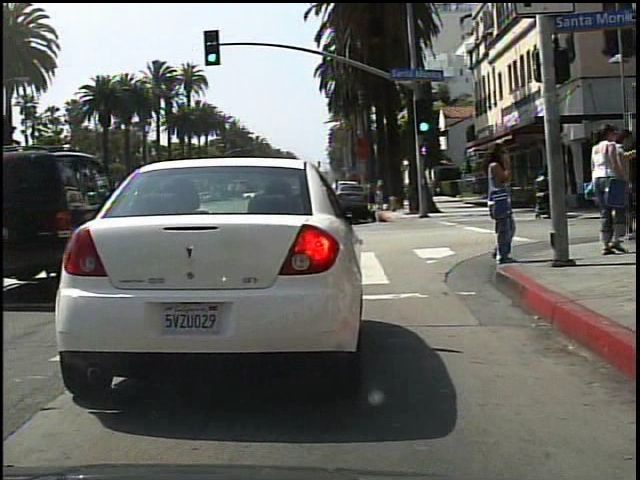person: (468, 140, 528, 269), (586, 121, 636, 256)
